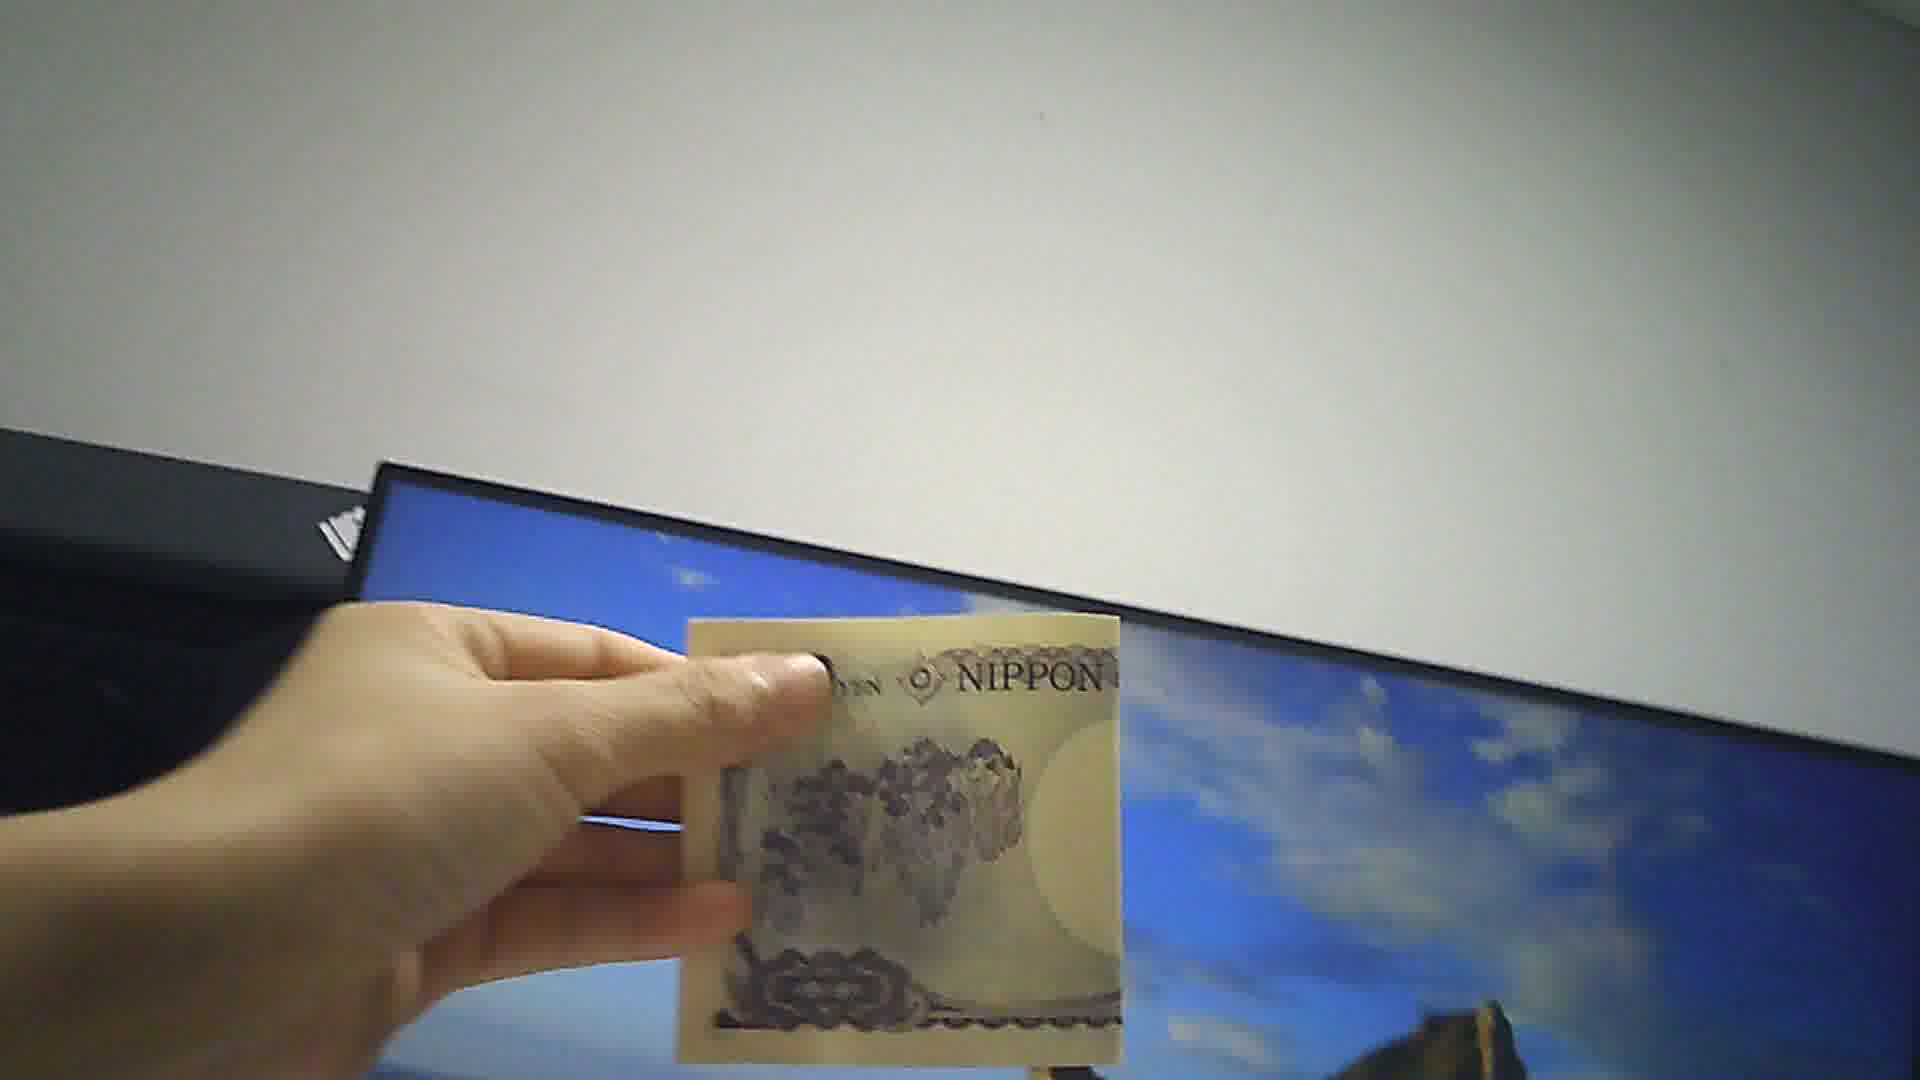5,000 Yen: (674, 579, 1137, 1069)
